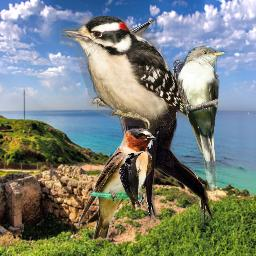Cuckoo: (178, 45, 226, 194)
Swallow: (77, 128, 156, 240)
Woodpecker: (82, 18, 214, 221), (59, 16, 193, 134), (117, 149, 145, 211)
